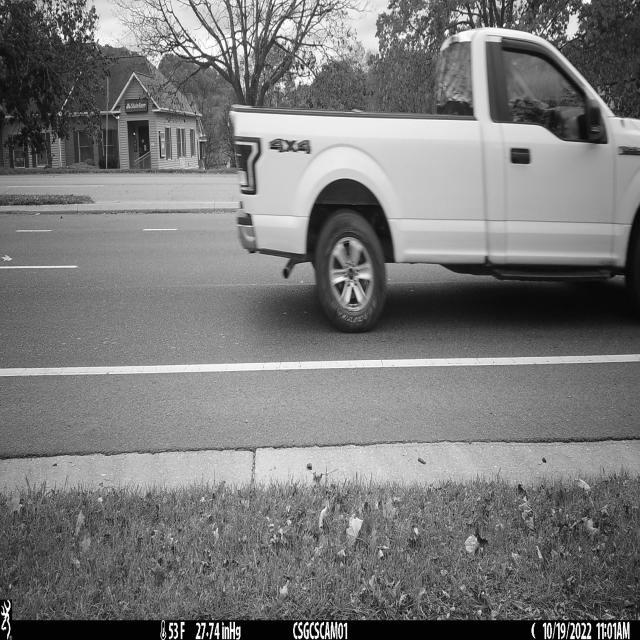Pickup: (229, 28, 640, 335)
